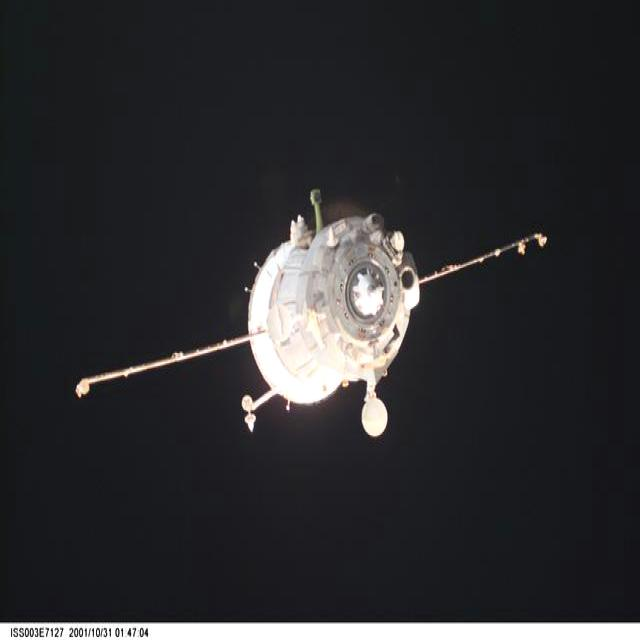medium_debris: (75, 190, 546, 437)
